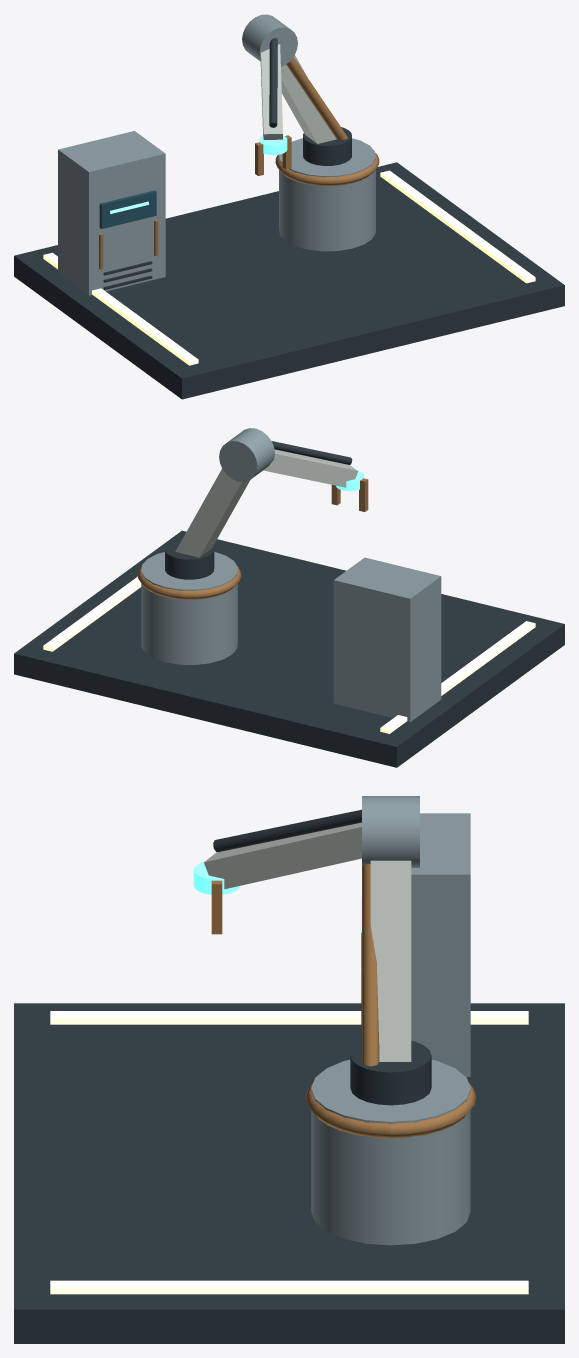
File: repair-bay.lod1.glb
The picture shows the model from 3 angles, top to bottom: view 1: azimuth 30°, elevation 25°; view 2: azimuth 150°, elevation 25°; view 3: azimuth 270°, elevation 25°; orthographic projection. The views are drawn at different scales.
Visible parts, largest first — view 1: structure, manipulator; view 2: structure, manipulator; view 3: structure, manipulator.
Part boxes in pixels (x1=…): structure: x1=14, y1=131, x2=564, y2=399; manipulator: x1=242, y1=14, x2=351, y2=175; structure: x1=14, y1=530, x2=564, y2=767; manipulator: x1=165, y1=428, x2=368, y2=579; structure: x1=14, y1=813, x2=564, y2=1343; manipulator: x1=193, y1=796, x2=431, y2=1105.
Bounding box in the file's own units: 5 × 3.05 × 3.8.
